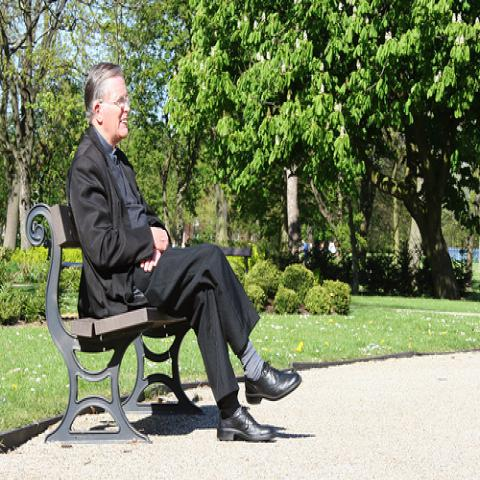car: (329, 242, 336, 254), (464, 253, 467, 263)
